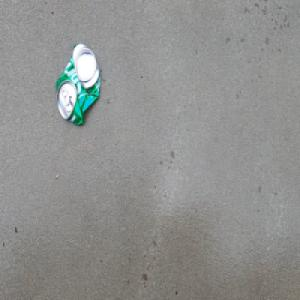SodaCan: (53, 40, 101, 128)
